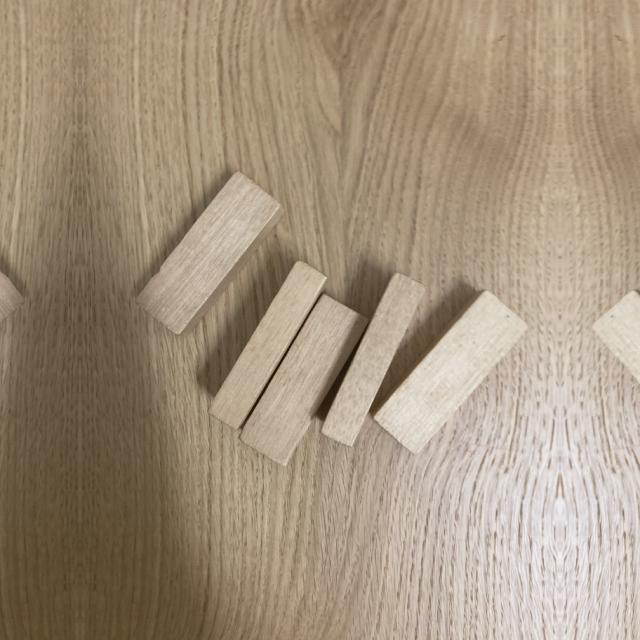jenga: (371, 292, 528, 455), (133, 171, 280, 337), (239, 293, 371, 466), (208, 261, 325, 432), (322, 271, 424, 447), (592, 292, 640, 380)
